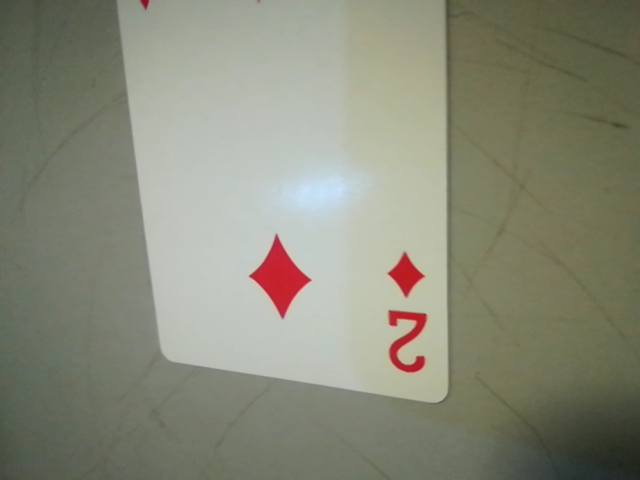fk 2: (370, 239, 443, 387)
